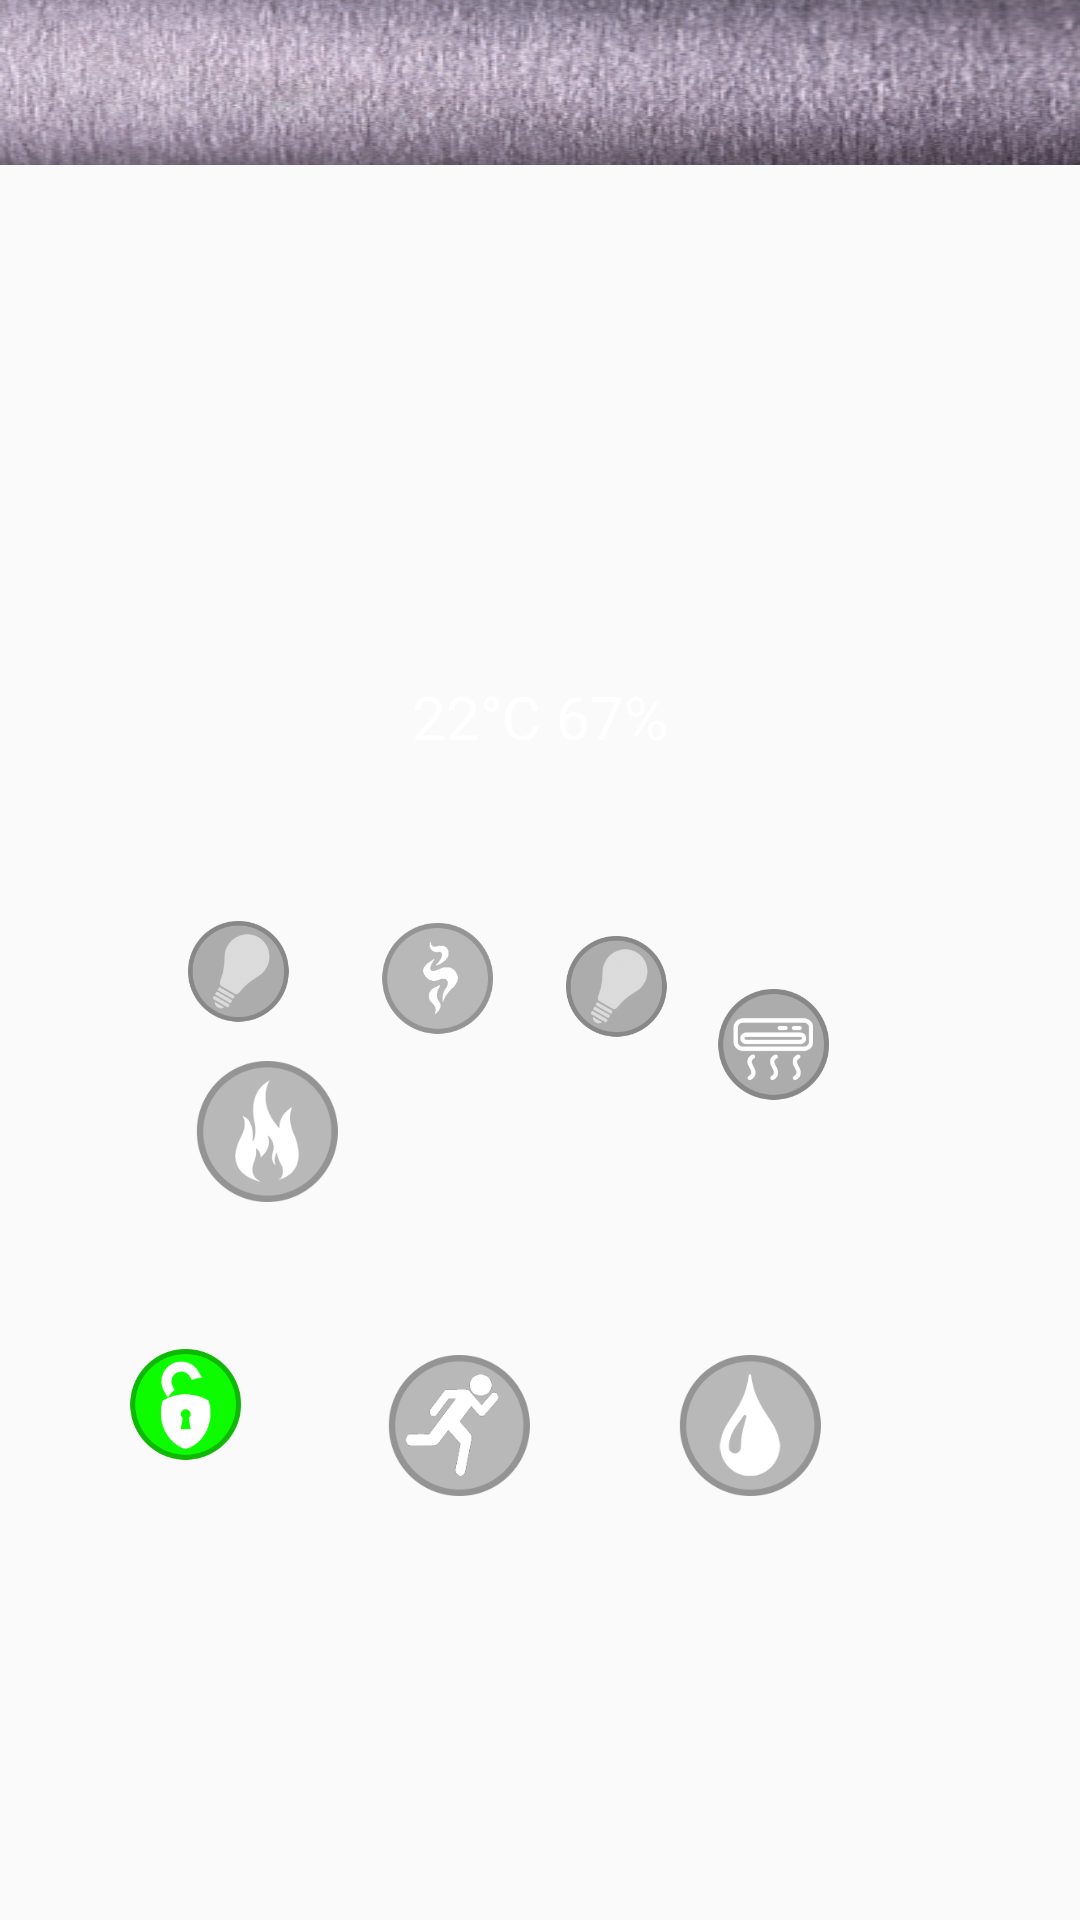

Named icons in this screenshot (1080x1920) and their bounding boxes, [x1=x1, y1=y1, x2=x2, y2=y2]:
climat off: [x1=718, y1=989, x2=829, y2=1100]
fire off: [x1=197, y1=1061, x2=338, y2=1202]
gas off: [x1=382, y1=923, x2=493, y2=1034]
lamp off: [x1=188, y1=921, x2=289, y2=1022], [x1=566, y1=936, x2=667, y2=1037]
lock on: [x1=130, y1=1349, x2=241, y2=1460]
security off: [x1=389, y1=1355, x2=530, y2=1496]
water off: [x1=680, y1=1355, x2=821, y2=1496]
